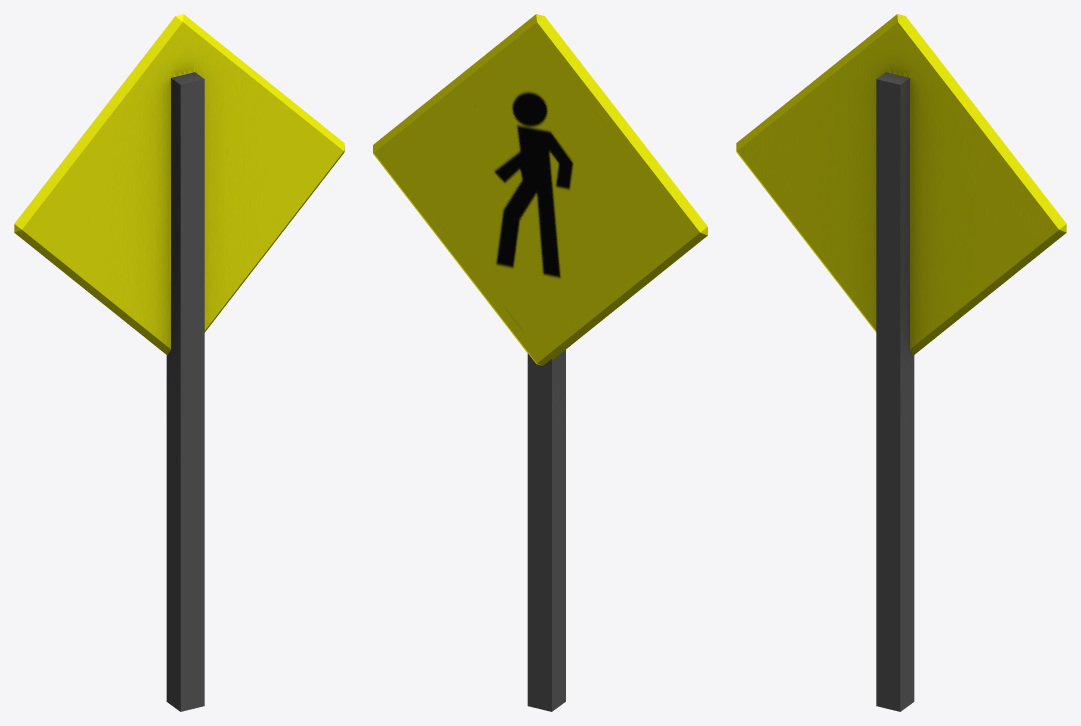
The model's file is peaton.glb.
The picture shows the model from 3 angles, left to right: view 1: azimuth 30°, elevation 25°; view 2: azimuth 150°, elevation 25°; view 3: azimuth 330°, elevation 25°; orthographic projection.
Parts seen in each view (by area): view 1: Cube; view 2: Cube; view 3: Cube.
Part boxes in pixels (x1=…): Cube: x1=14, y1=14, x2=344, y2=711; Cube: x1=373, y1=14, x2=707, y2=711; Cube: x1=736, y1=14, x2=1066, y2=711.
Bounding box in the file's own units: 2.76 × 5.46 × 0.2391.
1 material, 1 textured.
